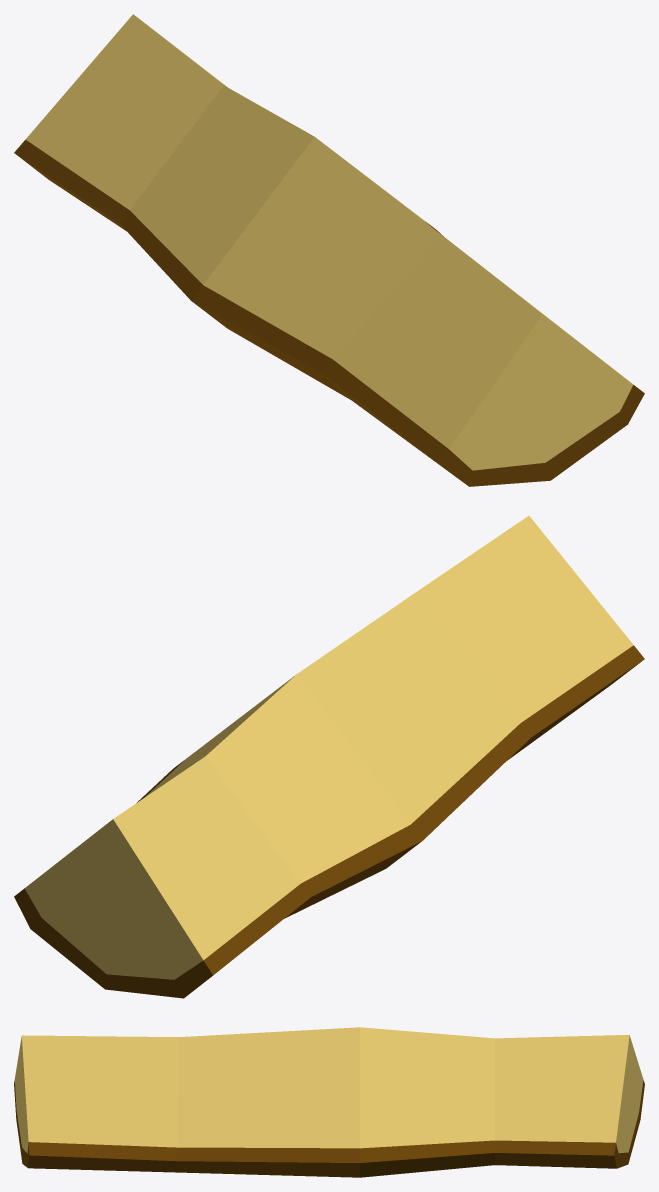
File: wood05.fbx
The picture shows the model from 3 angles, top to bottom: view 1: azimuth 30°, elevation 25°; view 2: azimuth 150°, elevation 25°; view 3: azimuth 270°, elevation 25°; orthographic projection. The views are drawn at different scales.
Parts seen in each view (by area): view 1: Cylinder.010; view 2: Cylinder.010; view 3: Cylinder.010.
Part boxes in pixels (x1,y1,x2,y2): Cylinder.010: (14,14,644,486); Cylinder.010: (14,516,644,998); Cylinder.010: (14,1027,644,1177).
Bounding box in the file's own units: 0.2859 × 0.2121 × 0.8561.
